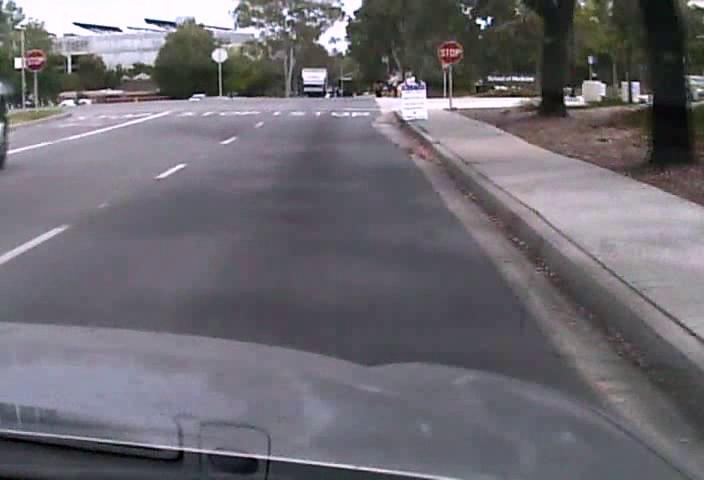stop: (436, 39, 463, 65)
